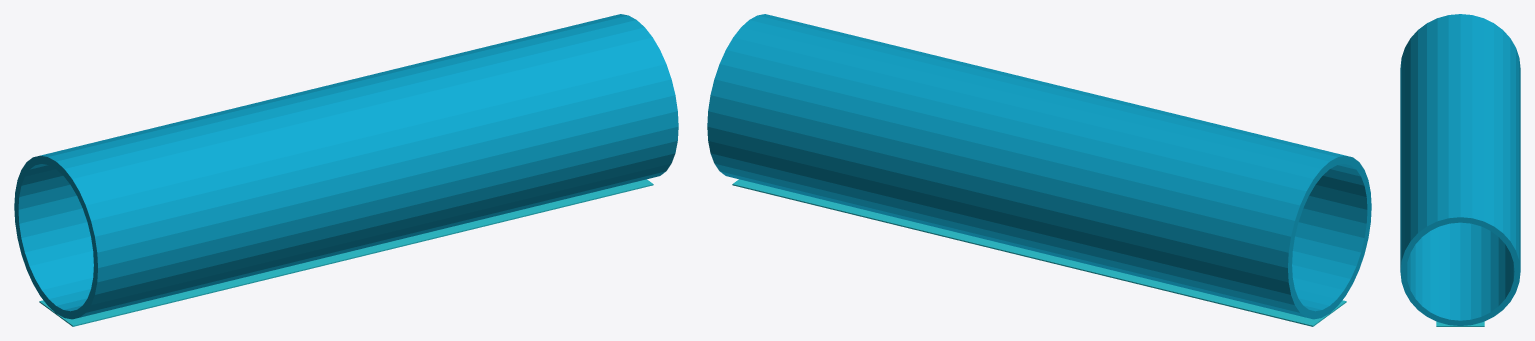
3 renders of one model, left to right at view 1: azimuth 30°, elevation 25°; view 2: azimuth 150°, elevation 25°; view 3: azimuth 270°, elevation 25°, orthographic. The views are drawn at different scales.
Parts seen in each view (by area): view 1: Cylinder, Plane; view 2: Cylinder, Plane; view 3: Cylinder, Plane.
Part boxes in pixels (x1=…): Cylinder: x1=14, y1=14, x2=678, y2=319; Plane: x1=39, y1=179, x2=653, y2=326; Cylinder: x1=707, y1=14, x2=1371, y2=319; Plane: x1=732, y1=179, x2=1346, y2=326; Cylinder: x1=1400, y1=14, x2=1520, y2=325; Plane: x1=1436, y1=321, x2=1484, y2=326.
Bounding box in the file's own units: 10 × 2.5 × 2.52.
